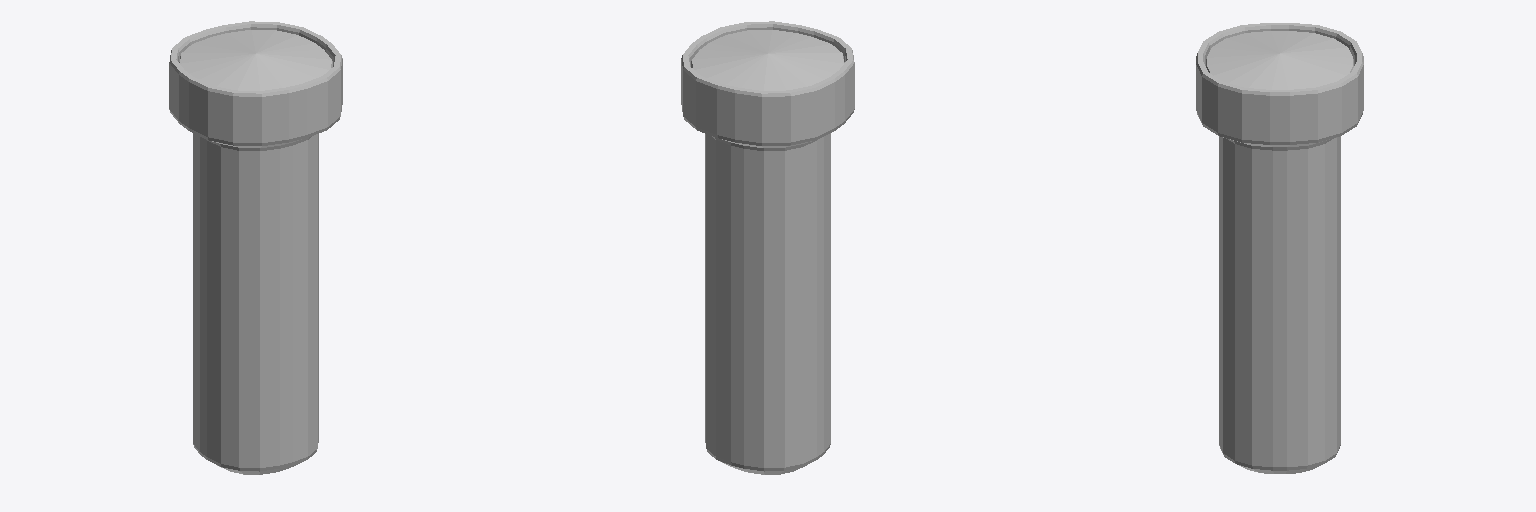
File: FlashLight.obj
The picture shows the model from 3 angles: view 1: azimuth 30°, elevation 25°; view 2: azimuth 150°, elevation 25°; view 3: azimuth 270°, elevation 25°; orthographic projection.
Visible parts, largest first — view 1: Cube; view 2: Cube; view 3: Cube.
Boxes of the visible parts, box(x1,y1,x2,y2) form: Cube: box(169, 21, 342, 474); Cube: box(681, 21, 854, 474); Cube: box(1196, 23, 1363, 473).
Bounding box in the file's own units: 2.75 × 7.36 × 2.75.